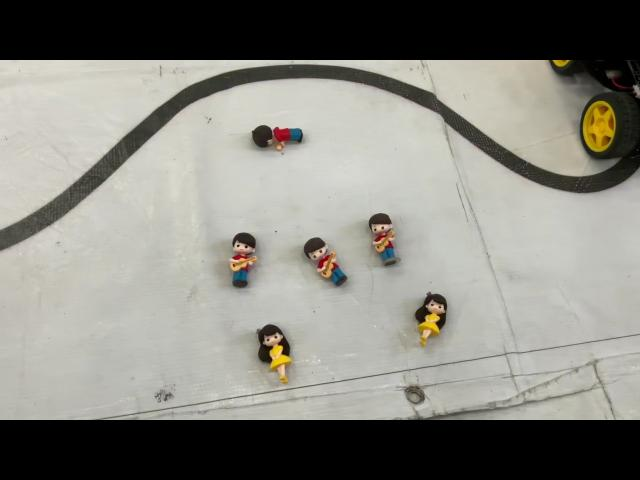man: (304, 236, 348, 288), (227, 229, 257, 289), (369, 212, 401, 266), (251, 124, 303, 152)
woman: (254, 324, 296, 386), (413, 289, 449, 347)
